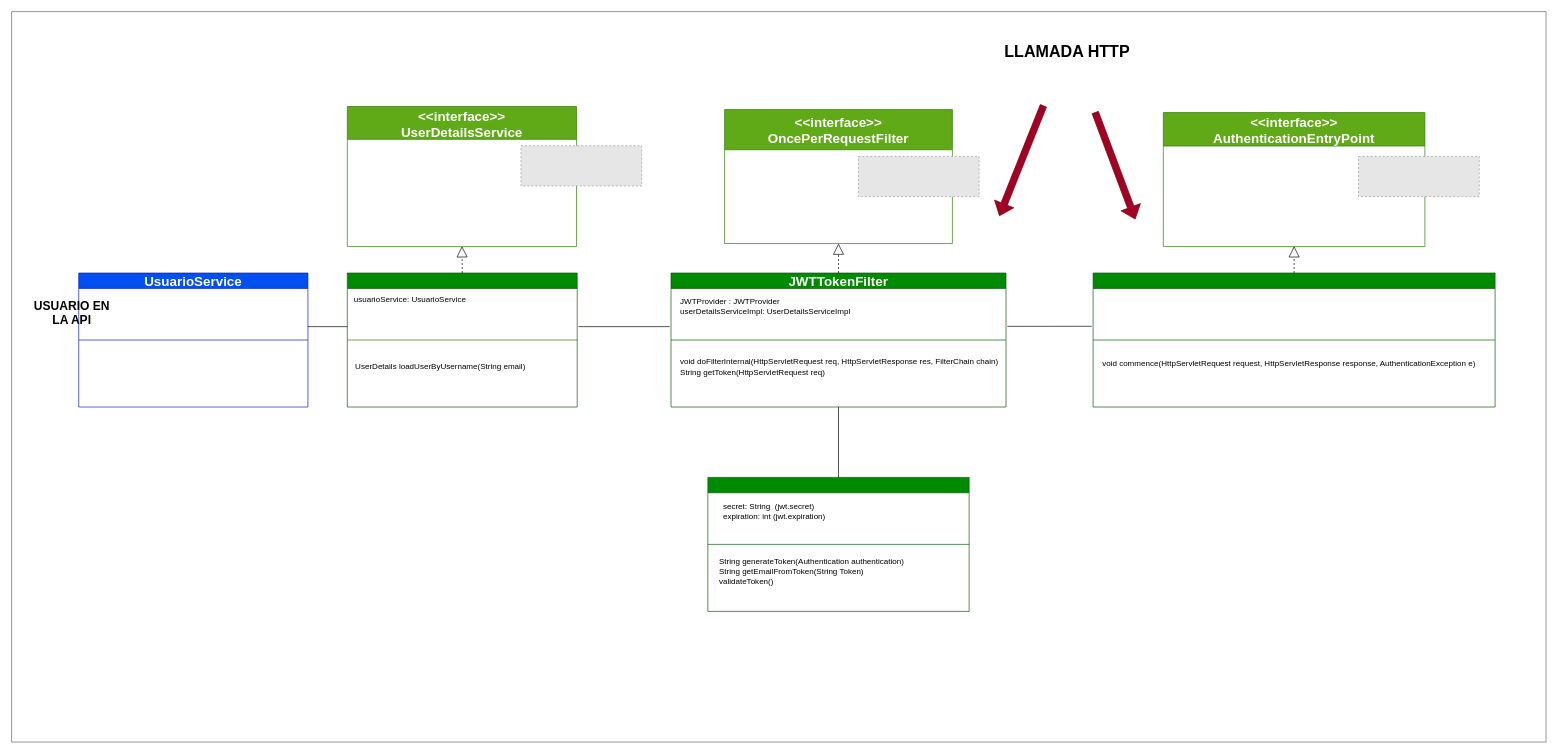
Image size: 1558x754. Some labels were removed from this diagram. Grey dashed boxes stand in for pictures. Each missing label, with the box of its shape:
JWTEntryPoint: (1092, 272, 1495, 407)
JWTProvider: (707, 477, 969, 611)
UserDetailsServiceImpl: (347, 272, 577, 407)
